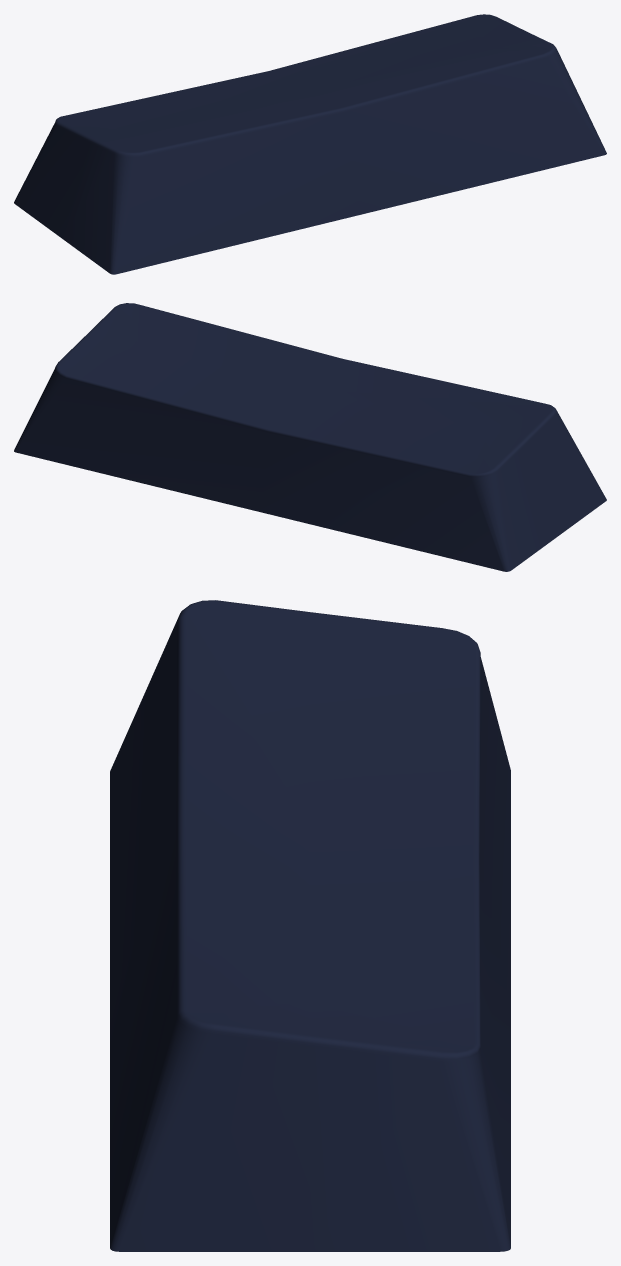
The model's file is cherryRshift.glb.
The picture shows the model from 3 angles, top to bottom: view 1: azimuth 30°, elevation 25°; view 2: azimuth 150°, elevation 25°; view 3: azimuth 270°, elevation 25°; orthographic projection. The views are drawn at different scales.
Visible parts, largest first — view 1: R4_2.75U_Mesh; view 2: R4_2.75U_Mesh; view 3: R4_2.75U_Mesh.
Part boxes in pixels (x1,y1,x2,y2): R4_2.75U_Mesh: [14, 14, 606, 274]; R4_2.75U_Mesh: [14, 303, 606, 571]; R4_2.75U_Mesh: [110, 600, 510, 1251].
Size of the model in its own units: 0.0515 by 0.0098 by 0.018.
